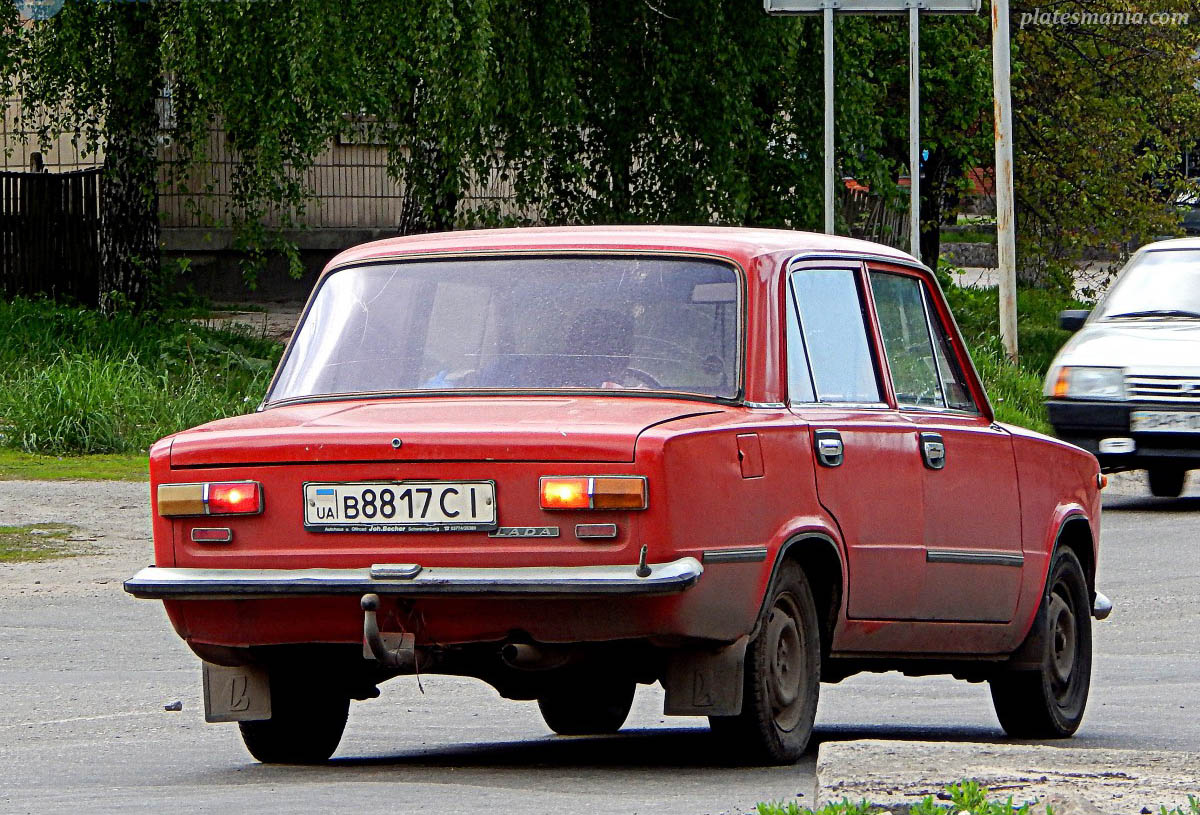car: (119, 227, 1114, 769)
plate: (304, 481, 495, 531)
